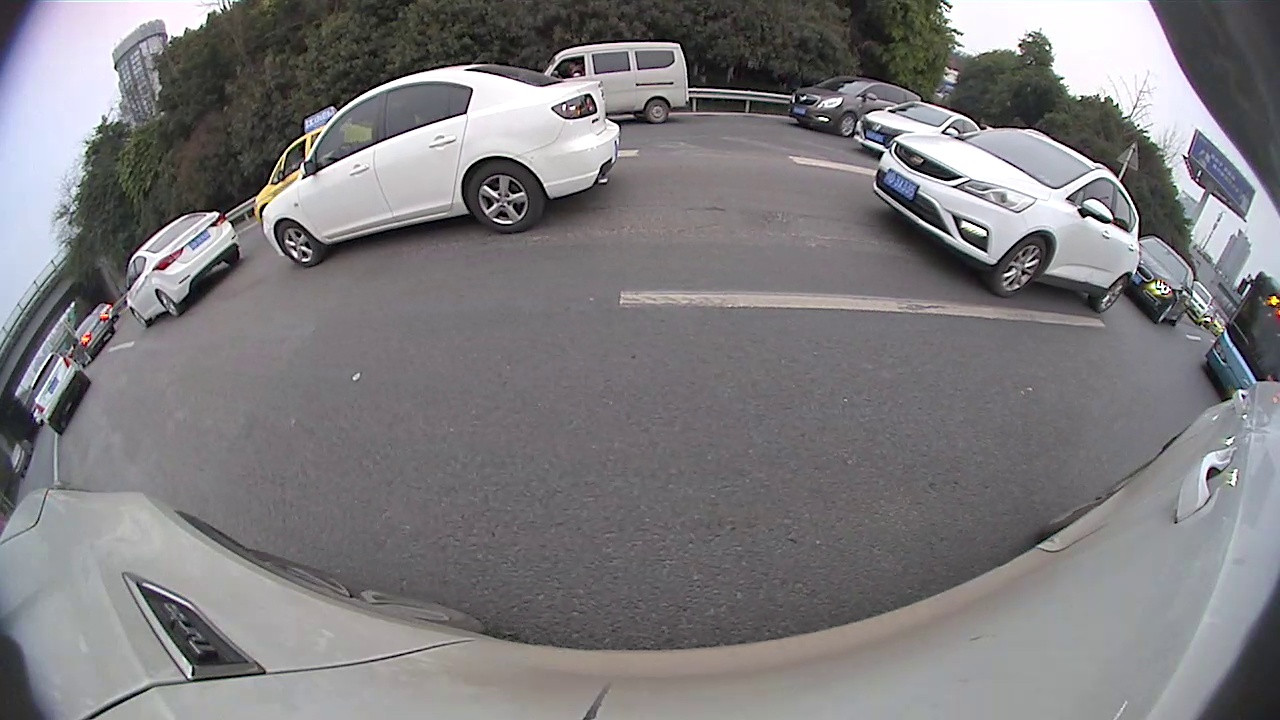bus: (1202, 270, 1279, 402)
car: (260, 63, 624, 269), (867, 123, 1145, 315), (118, 208, 243, 333), (538, 38, 694, 125), (783, 73, 921, 134), (853, 96, 983, 155), (22, 348, 93, 434), (1134, 235, 1194, 327), (67, 309, 114, 358)
front: (985, 233, 1047, 299), (273, 218, 327, 268), (837, 112, 859, 139), (1153, 301, 1174, 327)
rear: (464, 158, 542, 236), (1091, 273, 1130, 315), (156, 289, 184, 319), (645, 97, 674, 125)
